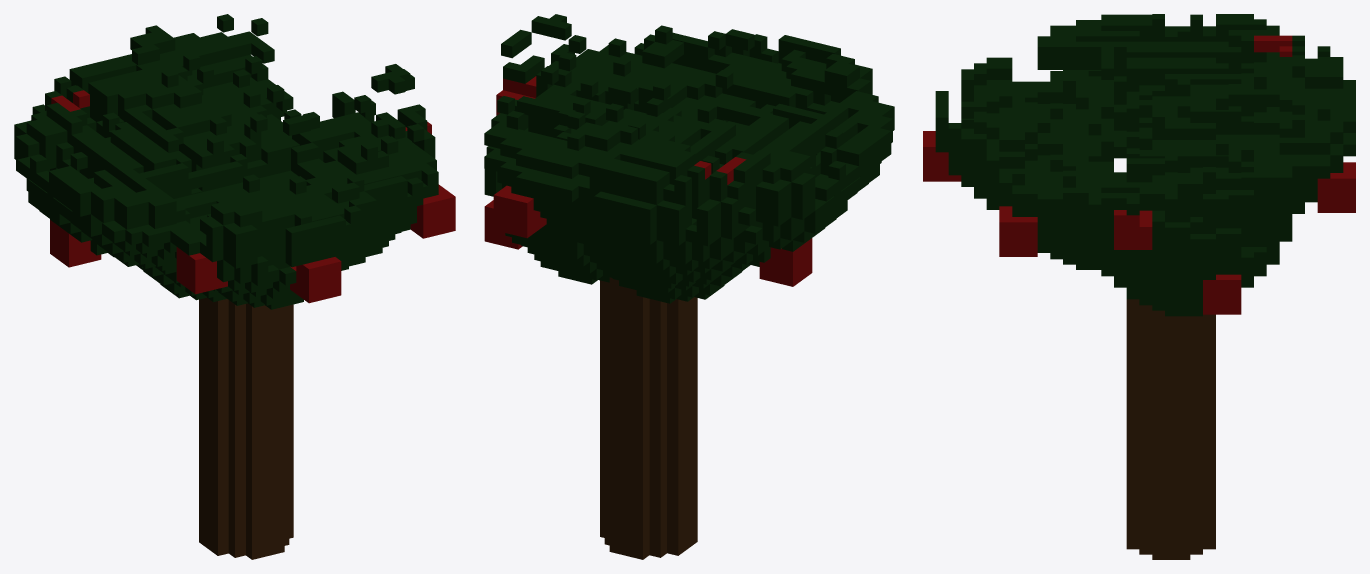
Rendered from Apfelbaum50.obj.
3 renders of one model, left to right at view 1: azimuth 30°, elevation 25°; view 2: azimuth 150°, elevation 25°; view 3: azimuth 270°, elevation 25°, orthographic. The views are drawn at different scales.
Size of the model in its own units: 3.3 by 4 by 3.4.
1 material, 1 textured.
